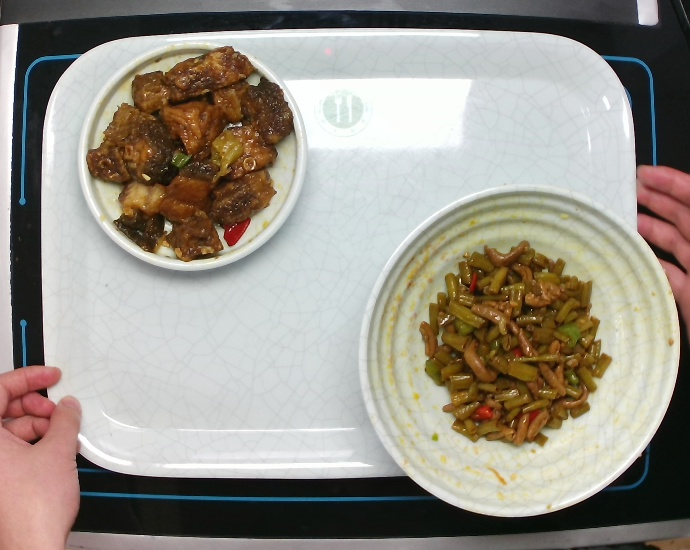JYsf-Da_Tang_Wan: (349, 176, 684, 519)
JYsf-Xiao_Yuan_Pan: (74, 38, 310, 274)
